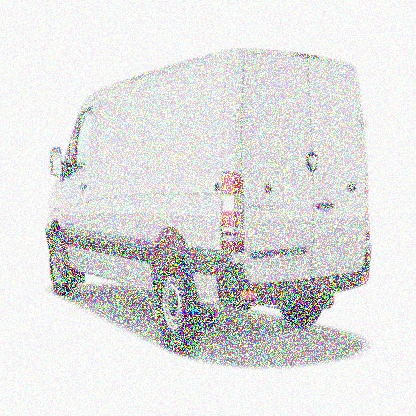Vehicle: (41, 45, 375, 356)
